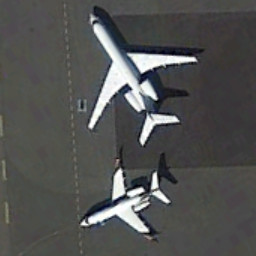Airplane: (68, 4, 206, 152), (73, 154, 181, 248)
